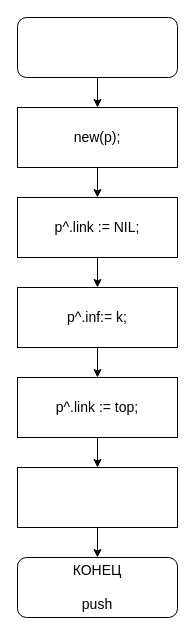
This 195x635 diagram has some shape labels left out. The shapes that lost their labels are listed below. From the top down, each one's centre as x and y in pixels, then its label:
(97,47): push НАЧАЛО
(97,497): top := p;
